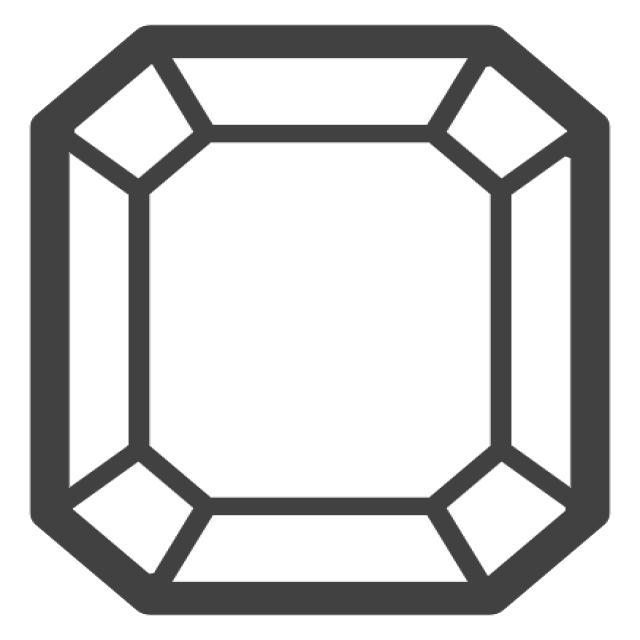emerald: (27, 22, 619, 620)
